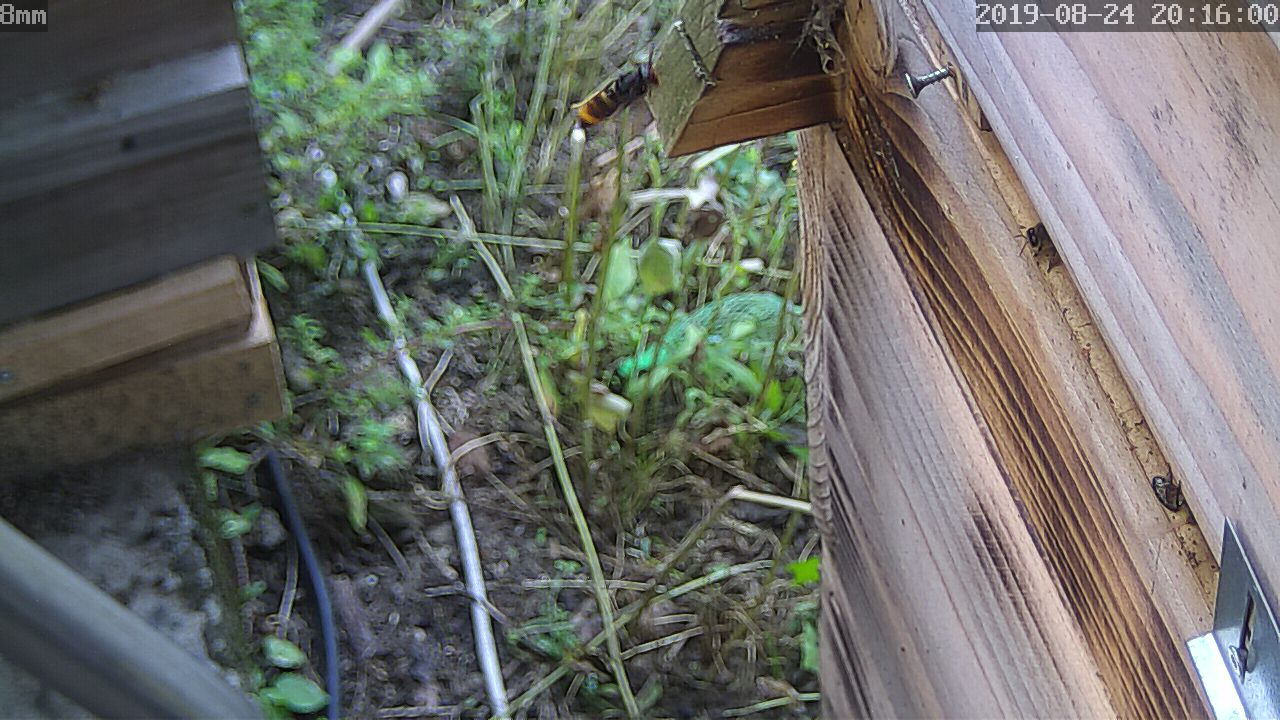bee: (1148, 467, 1201, 533), (1017, 213, 1056, 262)
hornet: (562, 47, 667, 137)
